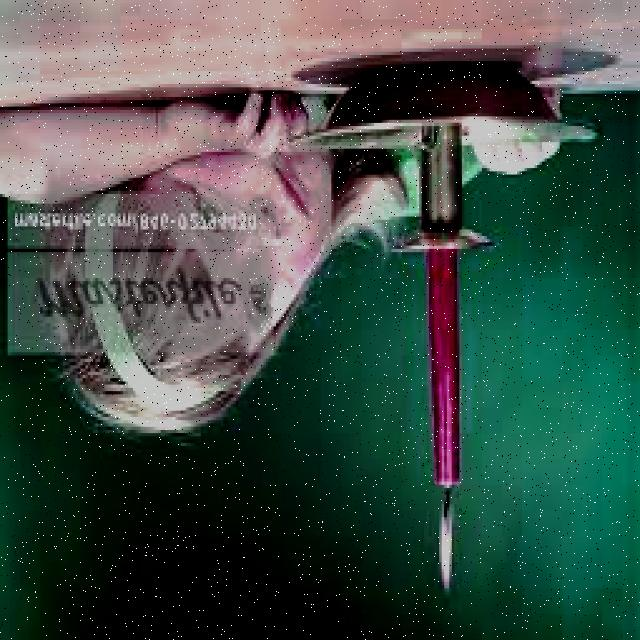api: (426, 480, 478, 603)
